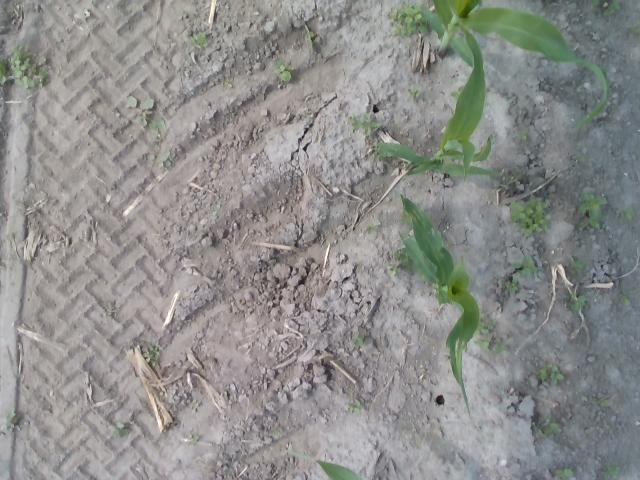Maize: (422, 0, 610, 130), (389, 186, 480, 419), (378, 15, 498, 186), (284, 449, 454, 480)
Weeds: (508, 194, 550, 236), (390, 0, 431, 34), (10, 44, 38, 89), (576, 193, 608, 230), (128, 94, 154, 126), (349, 111, 381, 136), (536, 361, 566, 385), (534, 412, 562, 436), (472, 311, 497, 334), (512, 256, 538, 276), (142, 344, 163, 366), (272, 57, 290, 82), (394, 248, 414, 270), (566, 292, 588, 310), (108, 422, 131, 438), (566, 255, 584, 275), (1, 410, 20, 428), (152, 150, 172, 167), (492, 338, 510, 356), (346, 395, 362, 414), (190, 32, 208, 48), (603, 0, 621, 16), (474, 336, 491, 352), (148, 118, 167, 132), (502, 278, 518, 294), (498, 172, 514, 188), (373, 148, 390, 162), (400, 210, 413, 228), (450, 86, 465, 101), (554, 468, 574, 479), (39, 66, 50, 85), (620, 206, 636, 219), (0, 57, 7, 85), (602, 464, 618, 476), (407, 88, 422, 100), (388, 262, 400, 276), (516, 129, 529, 141), (353, 333, 364, 347), (308, 31, 316, 49), (598, 396, 610, 407), (212, 203, 222, 215), (366, 222, 376, 234), (188, 436, 200, 444), (620, 296, 629, 304), (628, 24, 637, 32), (579, 155, 587, 164), (226, 78, 233, 88), (590, 0, 600, 6), (274, 428, 280, 435)
